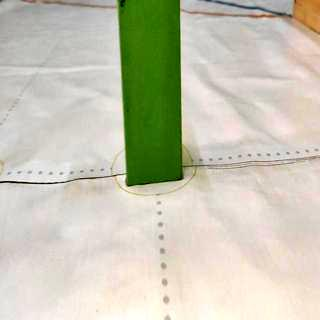greenbox: (117, 0, 185, 184)
